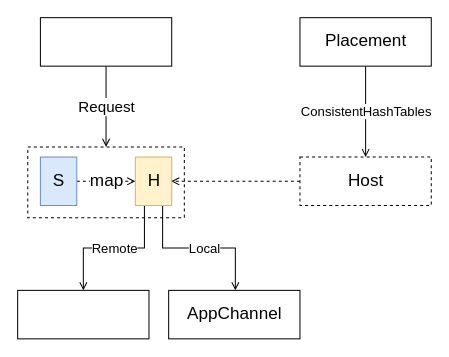
Image size: 449x357. Some labels were removed from this diagram. The shapes that lost their labels are listed below. From the top down, each one's box as (x1, y1, x2, y2) in pixels, then its label:
(39, 17, 172, 66): Actors
(17, 289, 149, 339): gRPC
